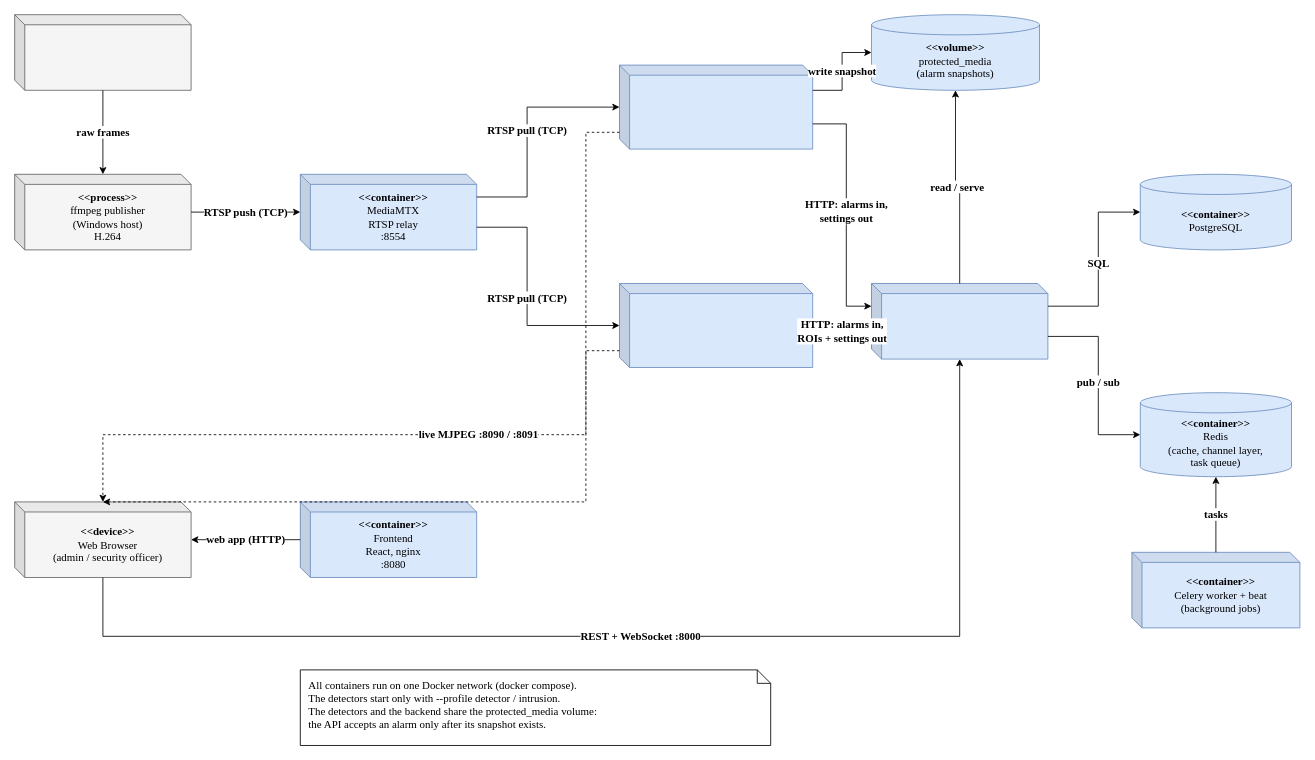
The diagram is 1315 pixels wide and 760 high, and some of its shapes have lost their labels. Here are the shapes that lost their labels. From the top down, the box of each, then its label:
(14, 14, 191, 90): <<device>> Laptop Webcam / CCTV camera
(619, 64, 813, 149): <<container>> Fire / Smoke Detector YOLO26, PyTorch GPU (NVIDIA), MJPEG :8090
(619, 283, 813, 368): <<container>> Intrusion Detector YOLO26, ONNX Runtime CPU, MJPEG :8091
(871, 283, 1048, 359): <<container>> SFLMS Backend Django + Channels :8000
